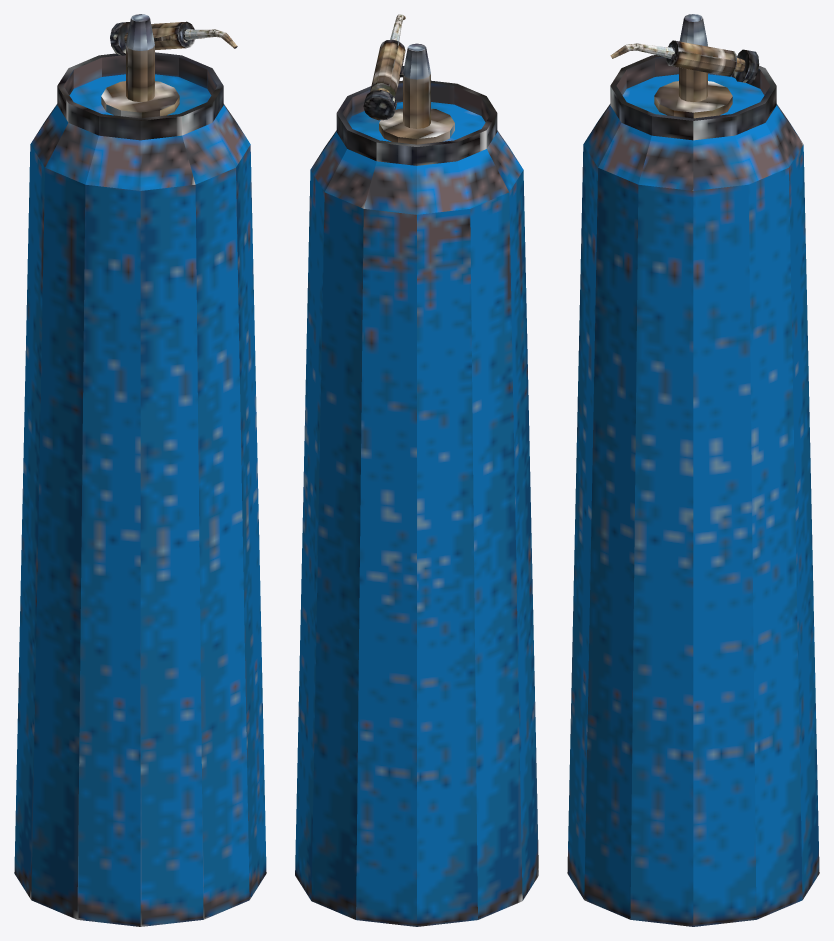
The model's file is LiquidsTank.fbx.
The picture shows the model from 3 angles, left to right: view 1: azimuth 30°, elevation 25°; view 2: azimuth 150°, elevation 25°; view 3: azimuth 270°, elevation 25°; orthographic projection. The views are drawn at different scales.
Parts seen in each view (by area): view 1: Tank, TankFiller; view 2: Tank, TankFiller; view 3: Tank, TankFiller.
Part boxes in pixels (x1,y1,x2,y2): Tank: [14, 14, 266, 926]; TankFiller: [110, 21, 237, 55]; Tank: [295, 43, 538, 926]; TankFiller: [363, 14, 405, 120]; Tank: [567, 14, 819, 926]; TankFiller: [610, 40, 759, 83].
Bounding box in the file's own units: 0.3527 × 1.32 × 0.3527.
